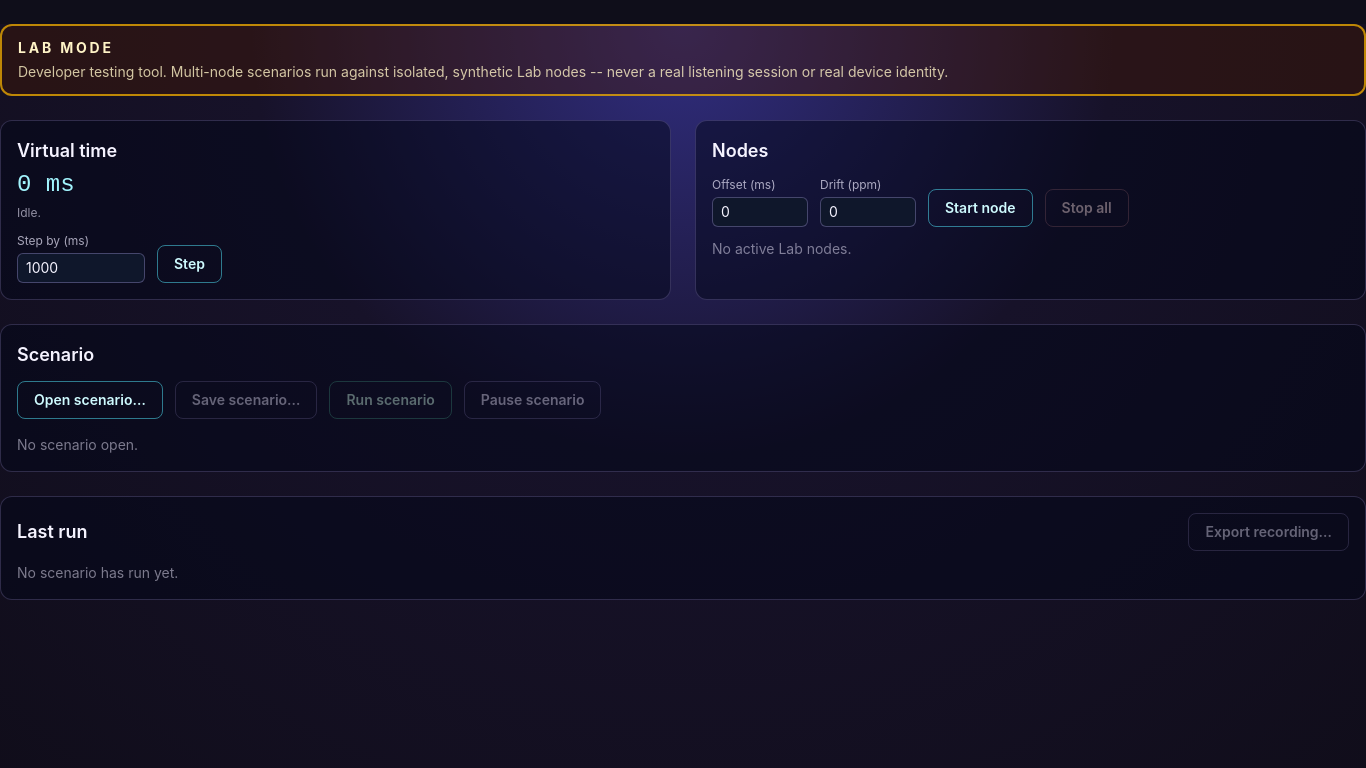
Test: LabScreen › displays a scenario validation failure instead of swallowing it
Expected: the message is shown, [0,24,1365,96]
Click the button "Open scenario…" at (90, 400), box [17,381,163,419]
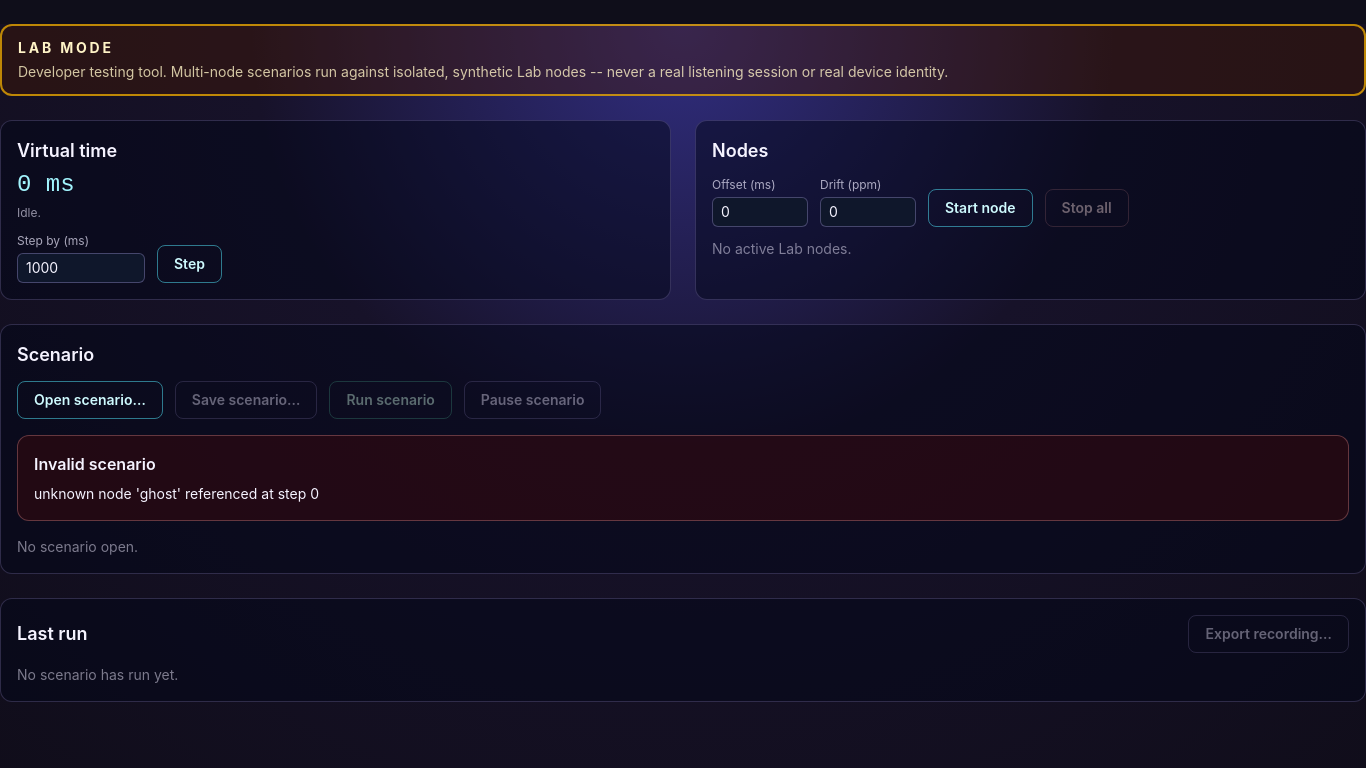
Expected: the text "Invalid scenario" is shown, [34,454,156,474]
Expected: the text "unknown node 'ghost' referenced at step 0" is shown, [34,485,319,502]
